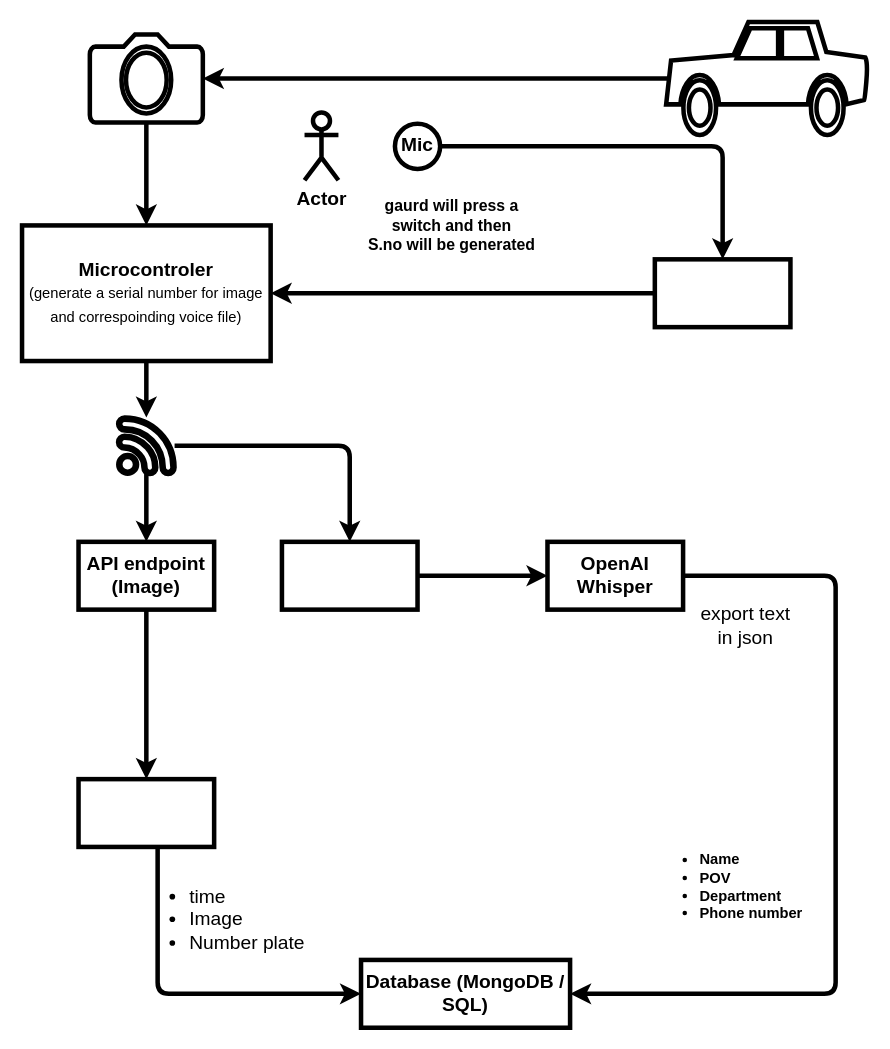
The diagram is 890 pixels wide and 1049 high, and some of its shapes have lost their labels. Here are the shapes that lost their labels. From the top down, the box of each, then its label:
(652, 257, 792, 329): Buffer
(279, 539, 419, 611): API endpoint (audio)
(76, 776, 216, 849): yolo Model
